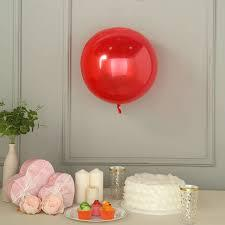red: (81, 26, 157, 107)
